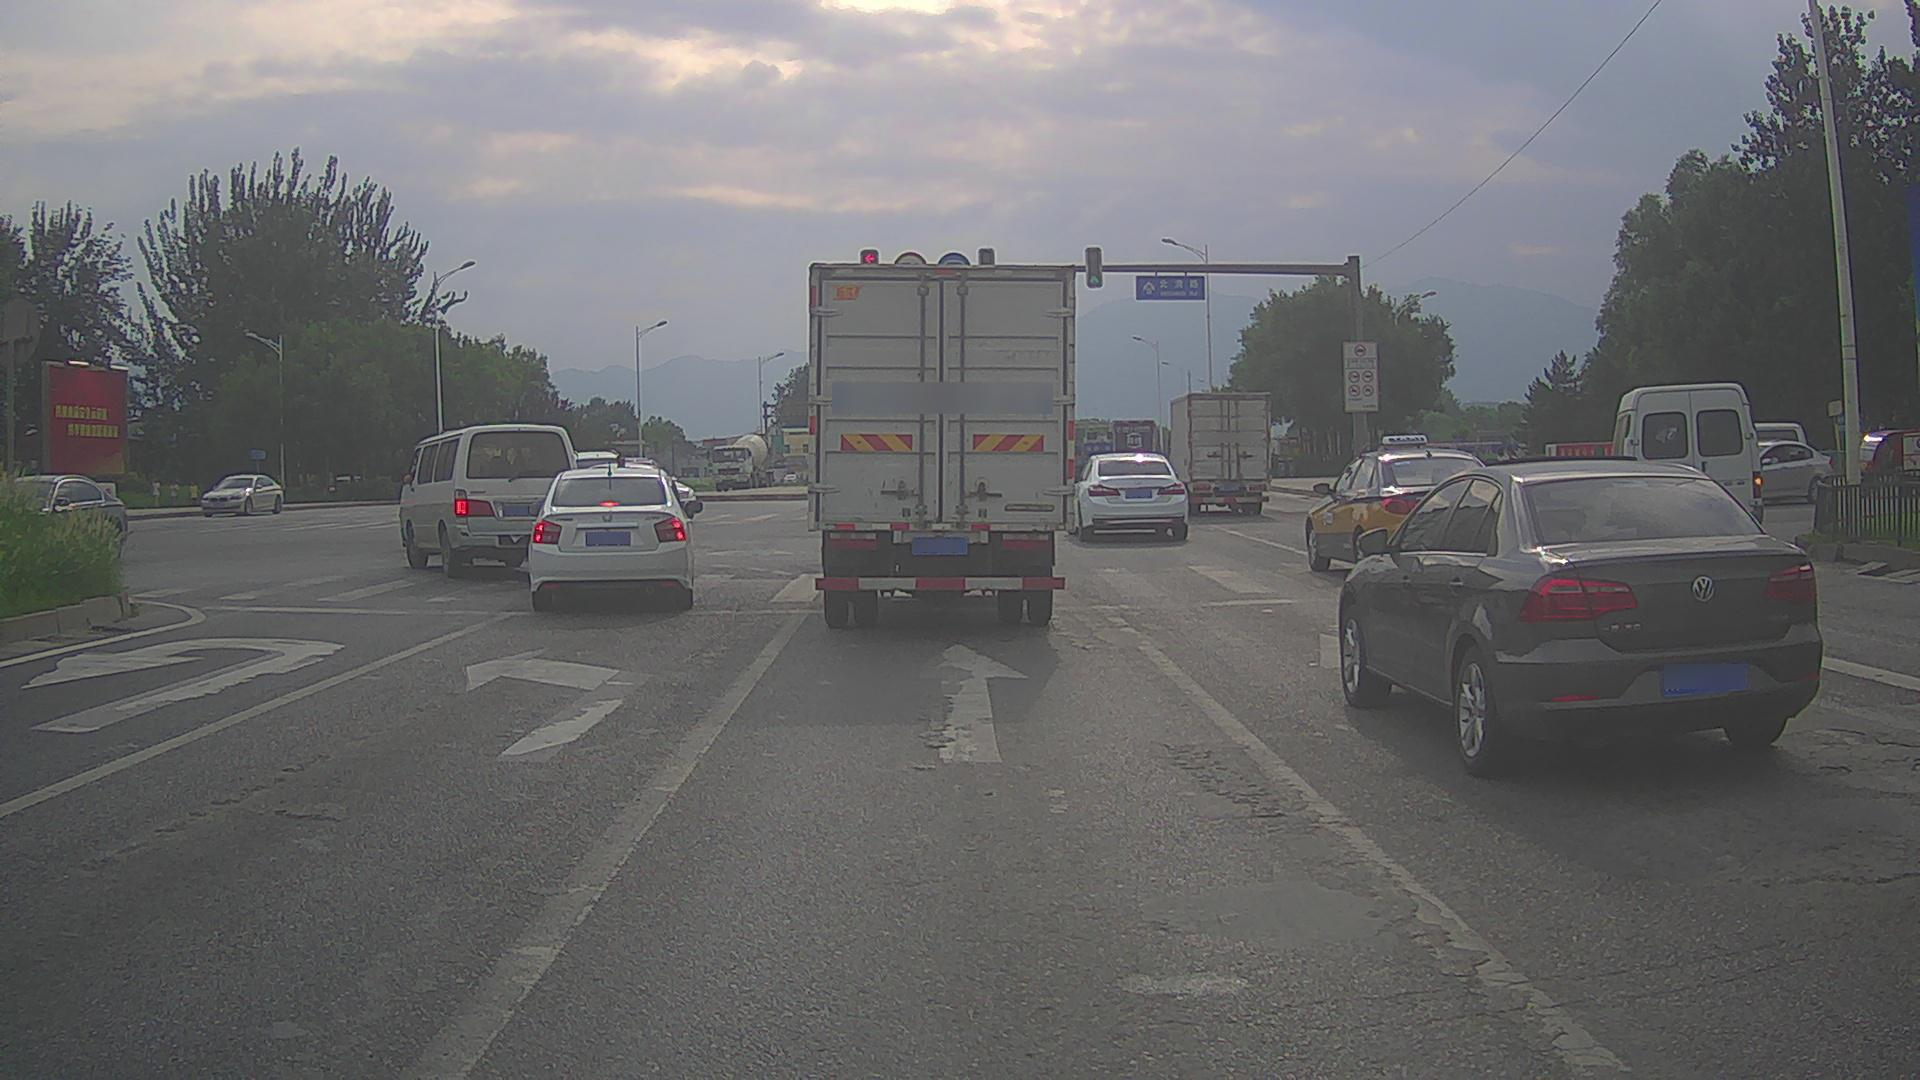car: (1337, 461, 1822, 771), (1304, 435, 1512, 573), (528, 467, 704, 610), (1072, 453, 1188, 542), (1, 475, 128, 555), (1716, 440, 1834, 504), (200, 473, 284, 517), (783, 472, 800, 486)
ignore: (574, 448, 703, 517)
pedestrian: (168, 478, 179, 507), (150, 476, 161, 507), (188, 479, 199, 507)
truck: (807, 264, 1074, 628), (1169, 391, 1272, 514), (1856, 428, 1919, 498), (708, 433, 769, 492)
van: (398, 424, 577, 577), (1611, 383, 1763, 538), (1728, 422, 1807, 473)
